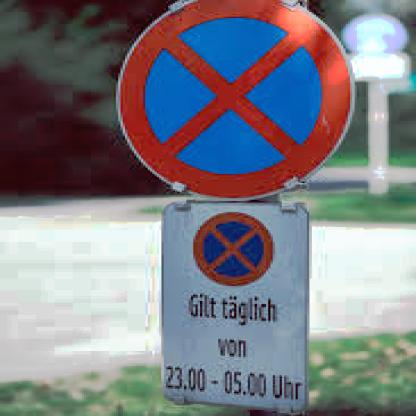No stopping: (118, 0, 362, 195), (182, 212, 282, 292)
